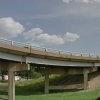Bridge: (4, 32, 95, 87)
